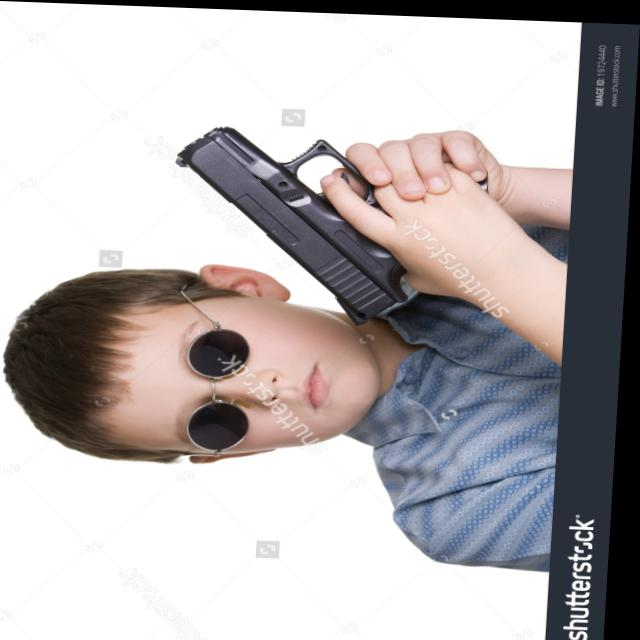handgun: (166, 118, 497, 330)
